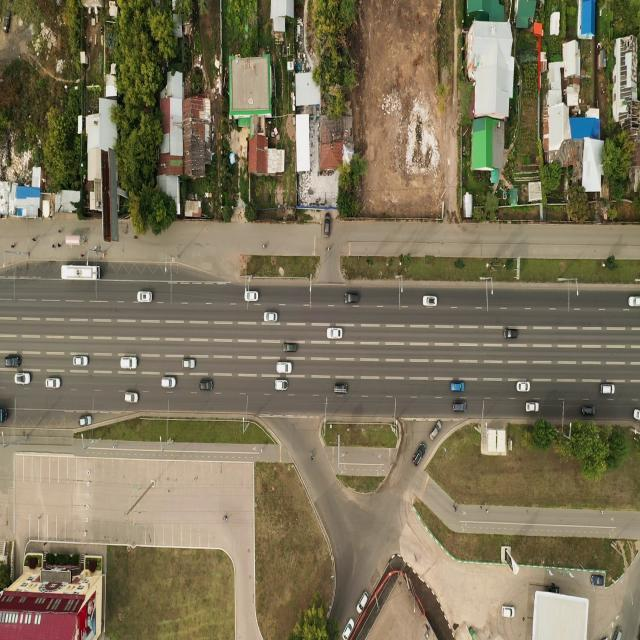vehicle: (60, 264, 100, 280), (413, 441, 426, 466), (342, 617, 354, 639), (356, 592, 368, 614), (429, 420, 442, 440), (590, 574, 606, 587), (14, 372, 30, 385), (120, 356, 137, 368), (323, 212, 331, 237), (276, 362, 292, 374), (4, 356, 20, 368), (45, 377, 61, 389), (136, 290, 152, 302), (3, 10, 11, 33), (327, 327, 342, 339), (344, 293, 360, 304), (274, 379, 288, 391), (600, 382, 614, 394), (244, 290, 258, 302), (501, 606, 515, 618), (162, 376, 176, 388), (423, 294, 437, 306), (73, 356, 89, 366), (453, 401, 467, 412), (503, 329, 518, 339), (450, 382, 465, 392), (526, 401, 539, 412), (284, 342, 298, 352), (334, 383, 348, 393), (516, 382, 530, 392), (582, 406, 596, 416), (264, 312, 278, 322), (183, 358, 196, 368), (125, 392, 138, 402), (200, 380, 213, 390), (80, 416, 92, 426), (628, 296, 640, 306), (613, 627, 622, 640), (0, 408, 8, 422), (548, 584, 560, 593), (633, 408, 640, 422), (308, 451, 313, 456), (30, 238, 36, 242), (326, 247, 330, 253), (10, 244, 15, 248), (485, 508, 488, 514), (134, 236, 138, 240), (262, 244, 266, 248), (51, 245, 54, 249), (58, 243, 61, 247), (480, 504, 482, 510), (453, 508, 456, 512), (225, 518, 228, 522), (112, 446, 116, 449), (260, 448, 262, 453), (310, 456, 313, 459), (80, 254, 84, 256), (452, 504, 454, 508), (58, 230, 61, 232)
